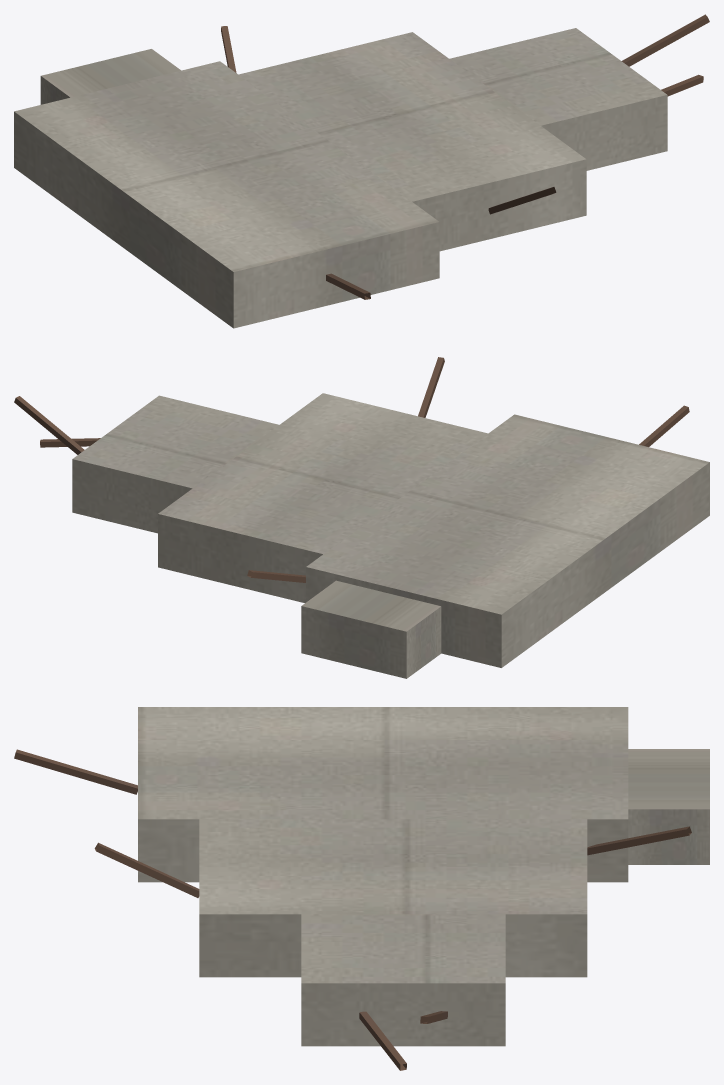
File: debris_tokyo_concrete_slab.glb
3 renders of one model, top to bottom at view 1: azimuth 30°, elevation 25°; view 2: azimuth 150°, elevation 25°; view 3: azimuth 270°, elevation 25°, orthographic. The views are drawn at different scales.
Parts seen in each view (by area): view 1: debris_tokyo_concrete_slab; view 2: debris_tokyo_concrete_slab; view 3: debris_tokyo_concrete_slab.
Boxes of the visible parts, <box> form: debris_tokyo_concrete_slab: <box>14,14,709,328</box>; debris_tokyo_concrete_slab: <box>14,357,709,678</box>; debris_tokyo_concrete_slab: <box>14,707,709,1070</box>.
Size of the model in its own units: 3.81 by 0.485 by 3.41.
Materials: 1 (1 with a texture image).
